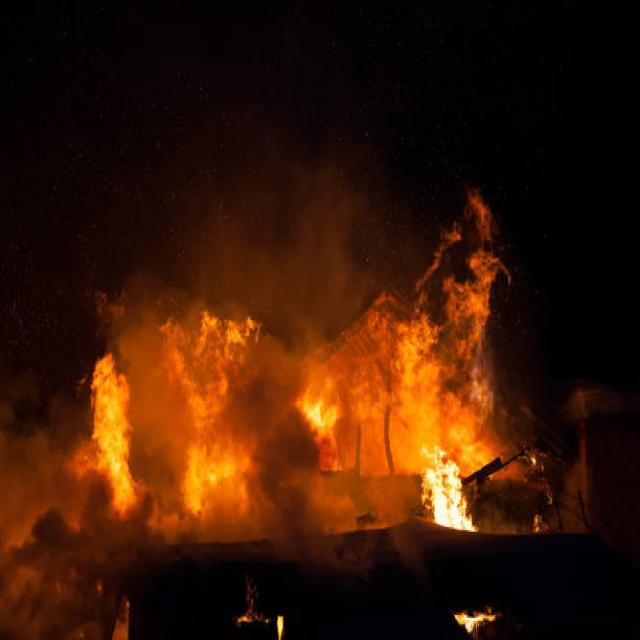Fire: (289, 181, 510, 469), (158, 312, 262, 514), (89, 352, 135, 510), (416, 449, 480, 536)
Smoke: (231, 336, 373, 570), (0, 495, 168, 640)
